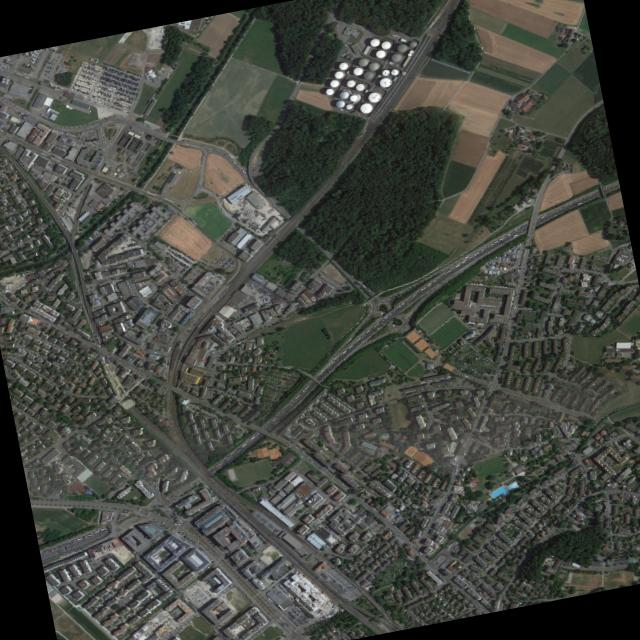storage-tank: (366, 90, 381, 103), (377, 76, 391, 88), (358, 102, 372, 114), (395, 42, 407, 53), (379, 39, 391, 50), (374, 48, 386, 59), (356, 56, 368, 67), (361, 69, 373, 80), (351, 65, 363, 76), (337, 60, 348, 71), (368, 37, 380, 47), (389, 52, 401, 62), (333, 99, 345, 109), (367, 61, 378, 71), (333, 69, 344, 79), (345, 78, 356, 88), (338, 89, 349, 99), (328, 78, 339, 87), (348, 93, 358, 102), (324, 87, 334, 96), (354, 82, 364, 91), (389, 67, 398, 76), (381, 68, 389, 76), (344, 103, 352, 110), (408, 40, 416, 47)
